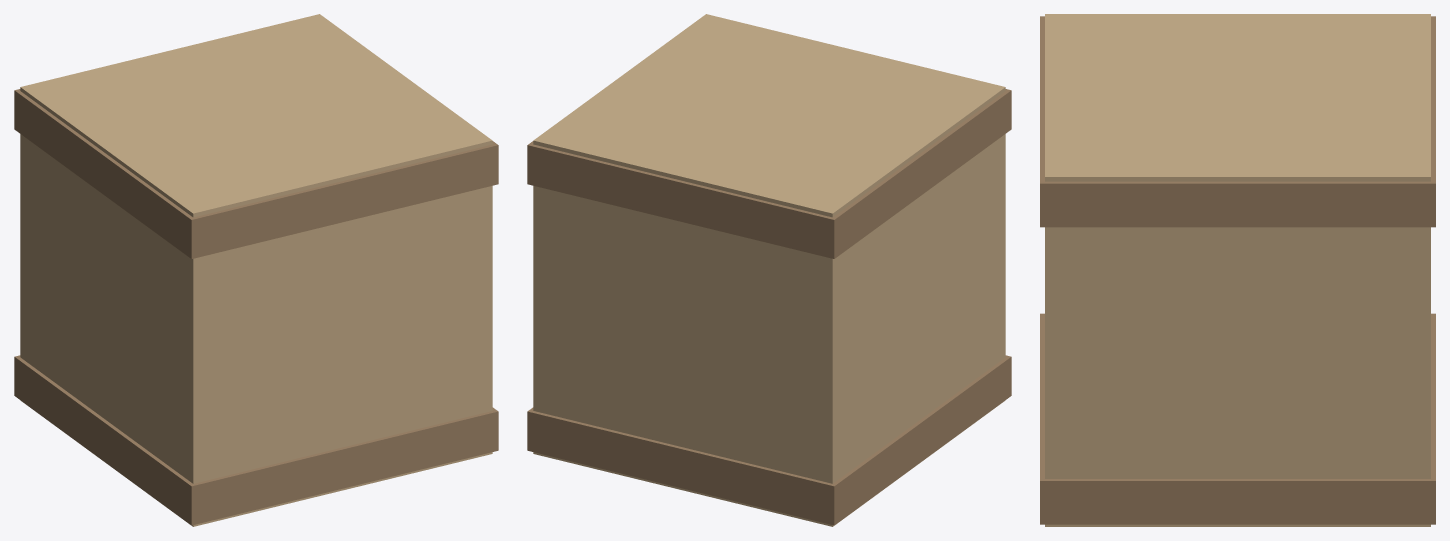
Rendered from Crate.glb.
3 renders of one model, left to right at view 1: azimuth 30°, elevation 25°; view 2: azimuth 150°, elevation 25°; view 3: azimuth 270°, elevation 25°, orthographic. The views are drawn at different scales.
Parts seen in each view (by area): view 1: Crate; view 2: Crate; view 3: Crate.
Boxes of the visible parts, x1,y1,x2,y2 form: Crate: (14,14,498,526); Crate: (527,14,1011,526); Crate: (1040,14,1435,526).
Size of the model in its own units: 0.82 by 0.8 by 0.82.
